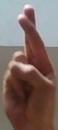R: (0, 3, 56, 123)
